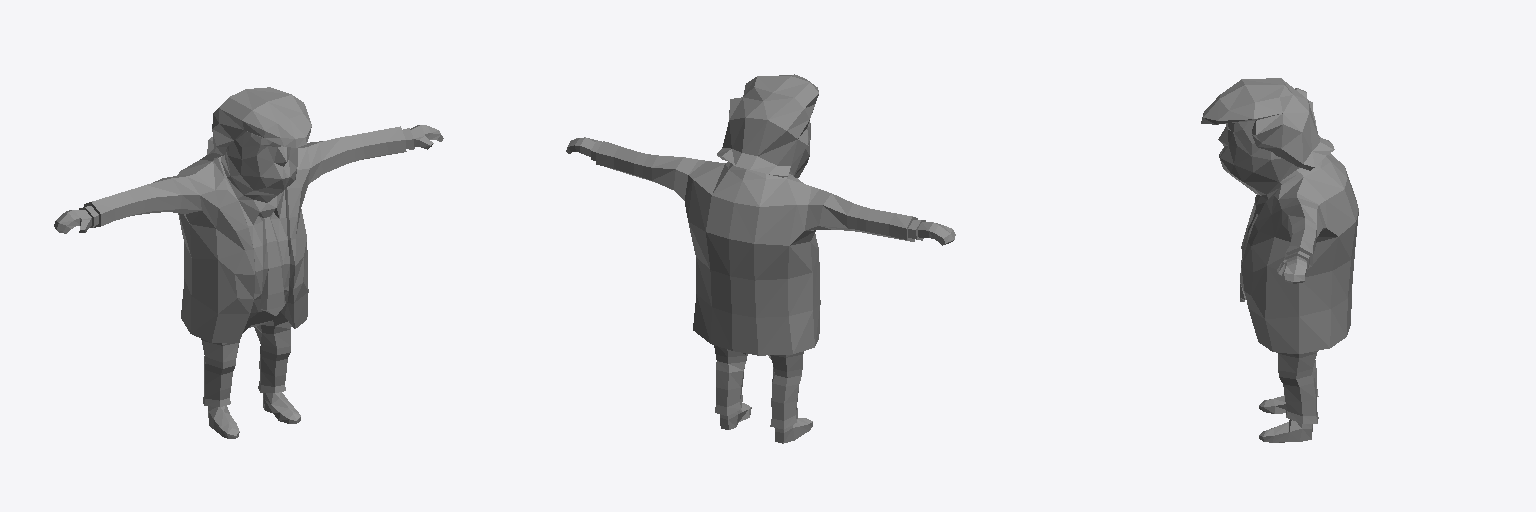
File: trump.obj
3 views of the same model, side by side, from view 1: azimuth 30°, elevation 25°; view 2: azimuth 150°, elevation 25°; view 3: azimuth 270°, elevation 25° (orthographic).
Visible parts, largest first — view 1: trump_lp_model; view 2: trump_lp_model; view 3: trump_lp_model.
Part boxes in pixels (bbox=[...]): trump_lp_model: bbox=[54, 87, 443, 438]; trump_lp_model: bbox=[566, 74, 955, 443]; trump_lp_model: bbox=[1201, 78, 1358, 442].
Bounding box in the file's own units: 2.24 × 1.86 × 0.7928.